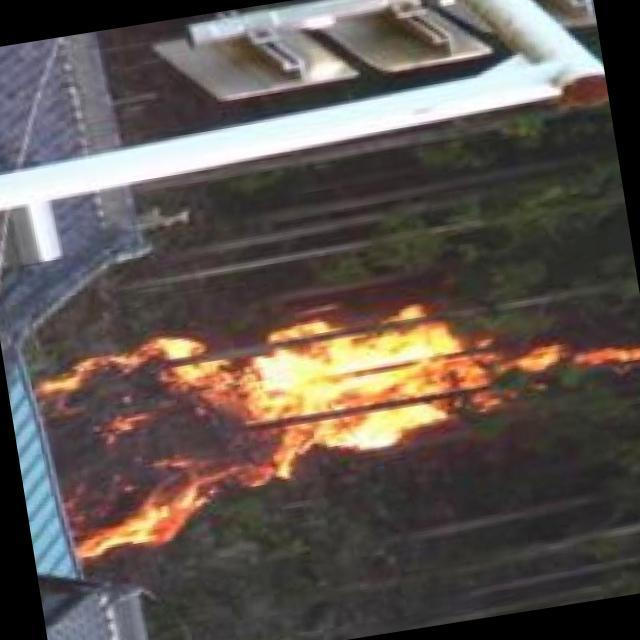Fire: (25, 261, 640, 563)
